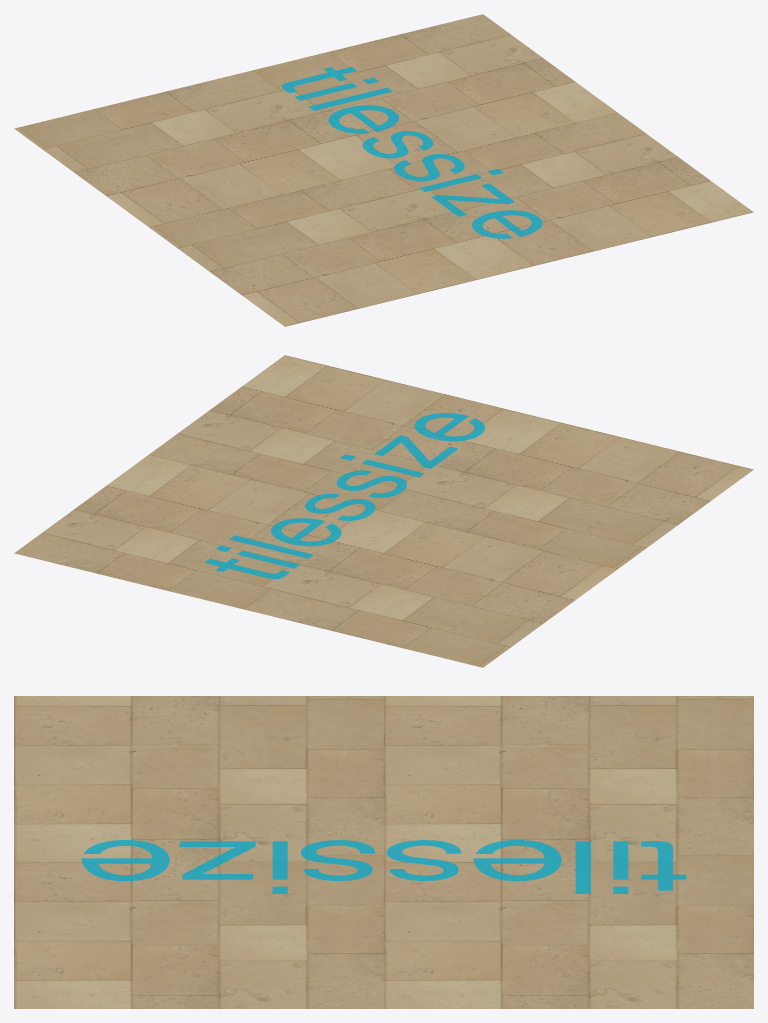
The picture shows the model from 3 angles, top to bottom: view 1: azimuth 30°, elevation 25°; view 2: azimuth 150°, elevation 25°; view 3: azimuth 270°, elevation 25°; orthographic projection. The views are drawn at different scales.
Visible parts, largest first — view 1: box_00, box_01; view 2: box_00, box_01; view 3: box_00, box_01.
Boxes of the visible parts, left/top/right/bottom form: box_00: left=14, top=14, right=753, bottom=326; box_01: left=281, top=67, right=542, bottom=238; box_00: left=14, top=355, right=753, bottom=667; box_01: left=204, top=413, right=484, bottom=579; box_00: left=14, top=696, right=753, bottom=1008; box_01: left=81, top=840, right=686, bottom=893.
Size of the model in its own units: 6 by 0.1 by 6.
Materials: 2 (1 with a texture image).
